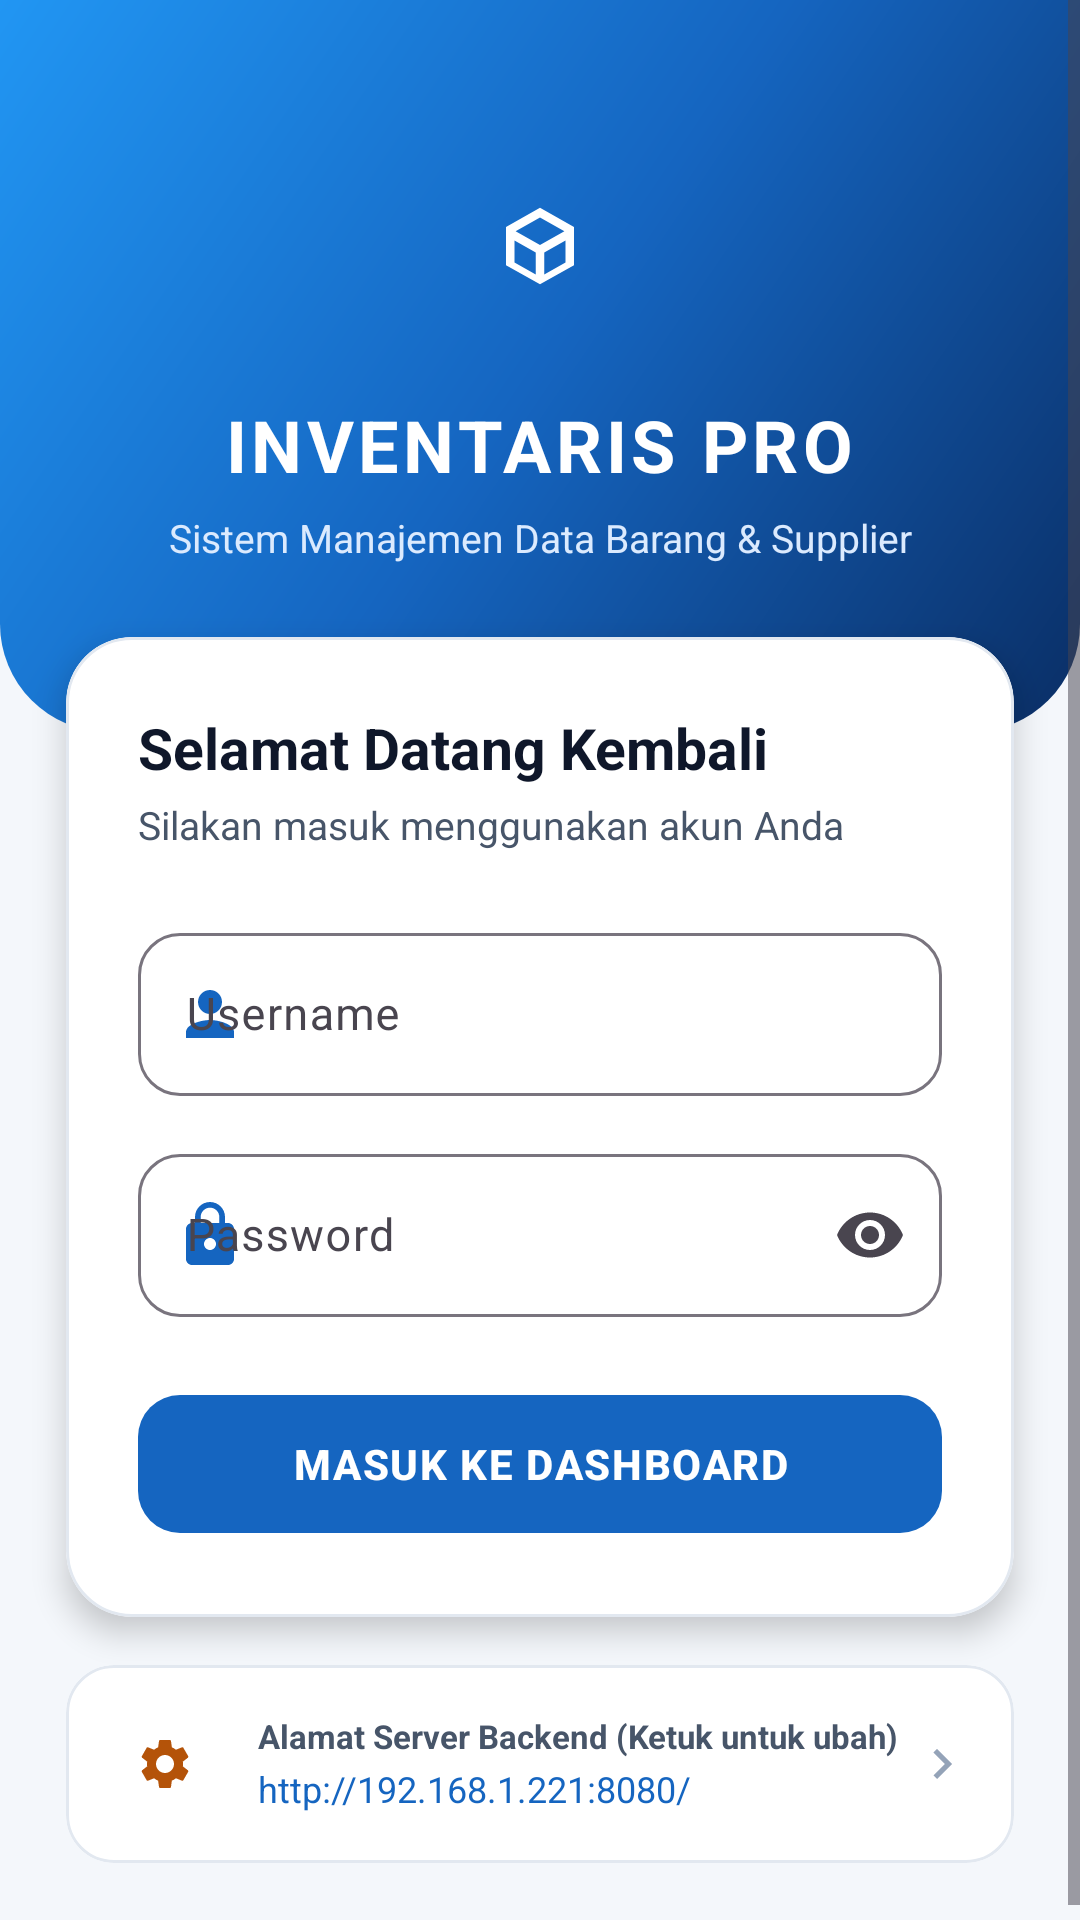

Icon bounding boxes for this 1080*1920 phone screenshot, format (x1,y1,x2,y2):
Pengaturan Server: (141,1740,189,1788)
